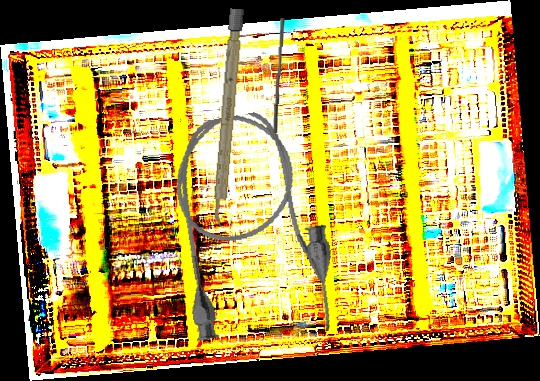Cannula: (159, 103, 345, 354)
Pusher: (272, 17, 286, 134)
Scalpel Handle: (210, 8, 245, 228)
